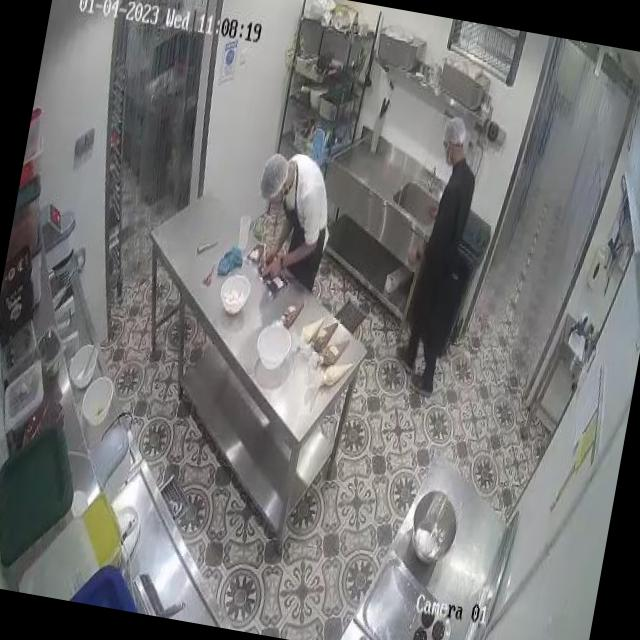hairnet: (258, 149, 288, 198), (444, 111, 468, 148)
